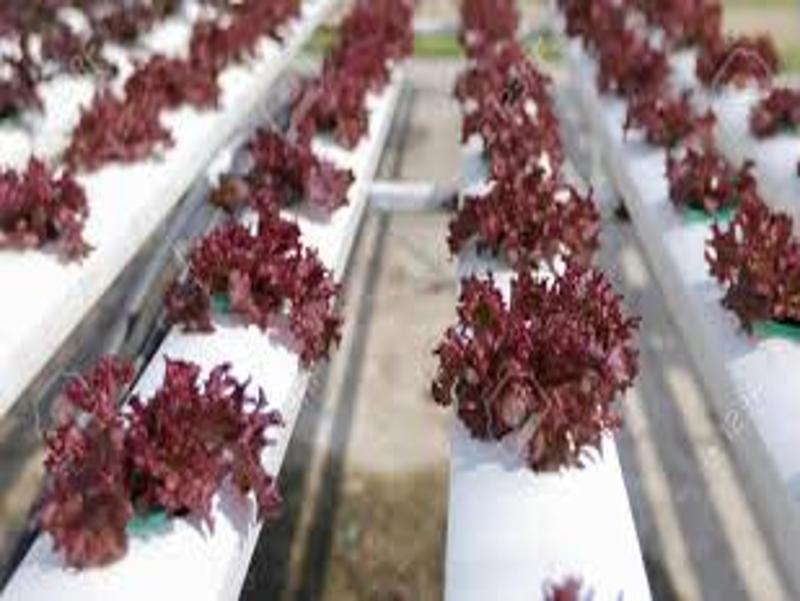red lettuce: (51, 358, 275, 548), (442, 269, 642, 468), (174, 216, 337, 363), (444, 164, 597, 274), (222, 129, 354, 224), (712, 203, 800, 336), (1, 157, 93, 264), (472, 98, 569, 177), (72, 91, 168, 160), (292, 67, 378, 142), (121, 51, 218, 110), (669, 150, 760, 212), (633, 92, 717, 146), (598, 40, 675, 90)
